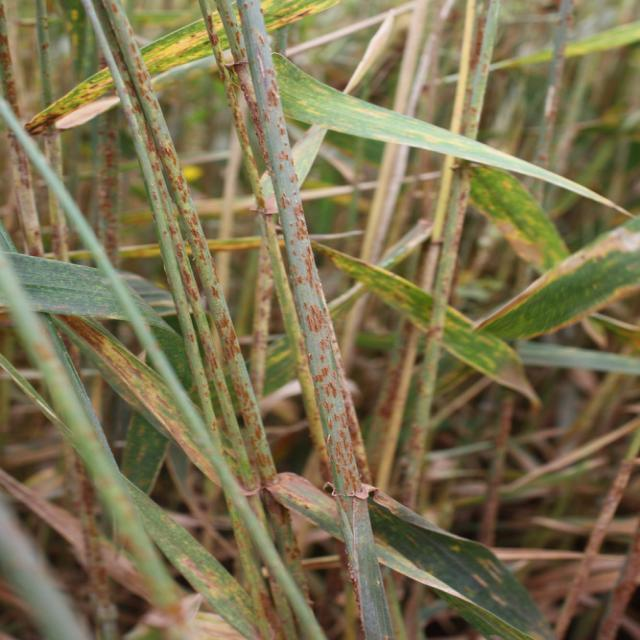Stem Rust: (67, 0, 401, 539)
